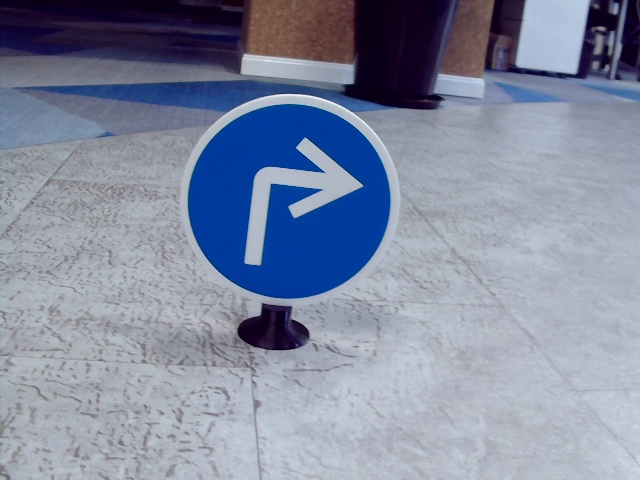turn_right: (238, 136, 358, 269)
